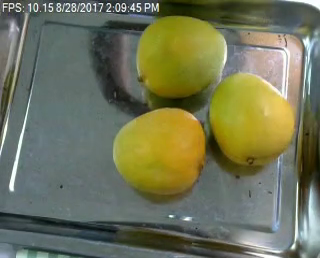Mango: (112, 106, 206, 190), (211, 73, 293, 165), (139, 17, 225, 95)
